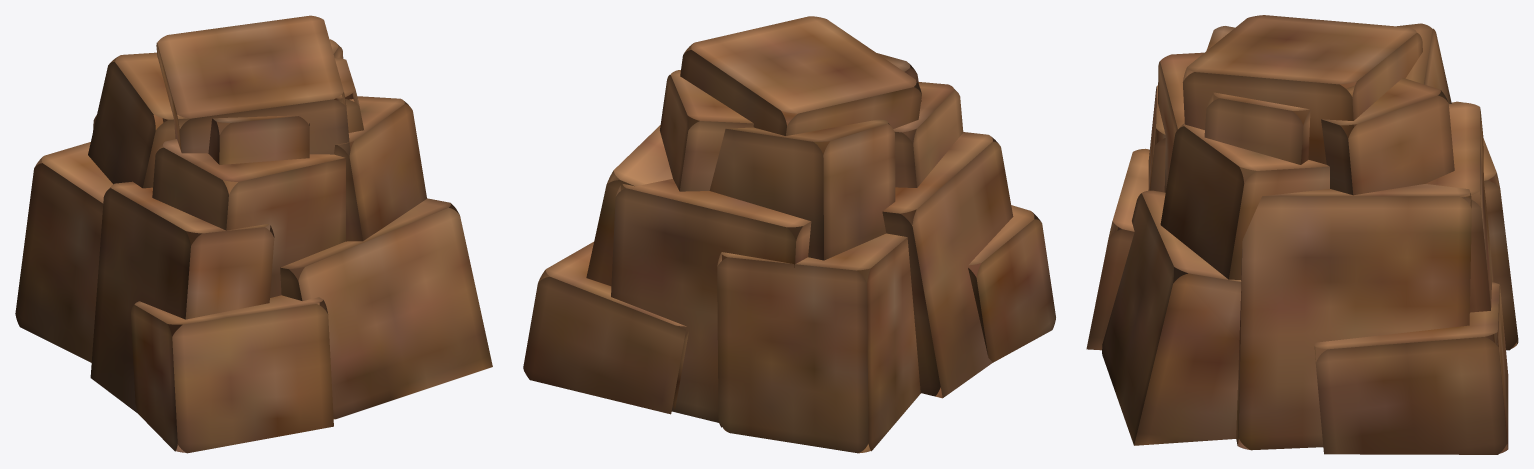
File: SM_Dirt_01_a.fbx
3 renders of one model, left to right at view 1: azimuth 30°, elevation 25°; view 2: azimuth 150°, elevation 25°; view 3: azimuth 270°, elevation 25°, orthographic. The views are drawn at different scales.
Visible parts, largest first — view 1: Dirt; view 2: Dirt; view 3: Dirt.
Part boxes in pixels (x1=…): Dirt: x1=15, y1=15, x2=492, y2=453; Dirt: x1=523, y1=16, x2=1055, y2=453; Dirt: x1=1086, y1=15, x2=1518, y2=454.
Bounding box in the file's own units: 103 × 84.94 × 103.
Materials: 1 (1 with a texture image).
